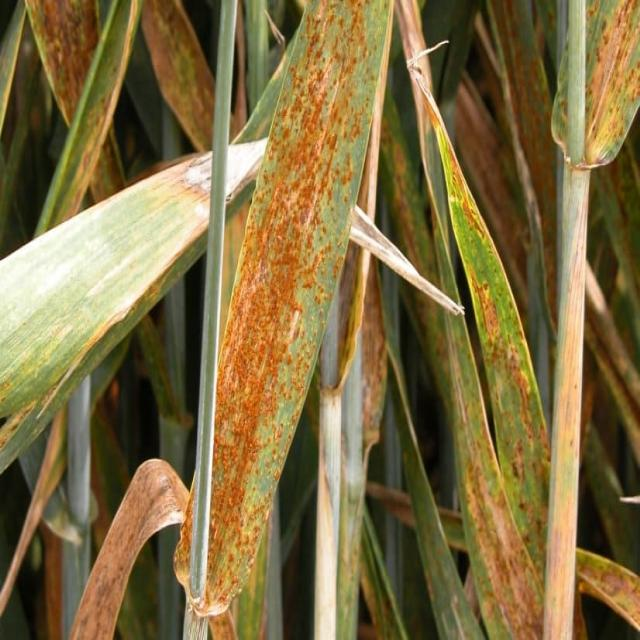leaf_rust: (205, 0, 390, 613), (410, 70, 549, 581), (444, 312, 541, 638), (435, 222, 456, 293)
